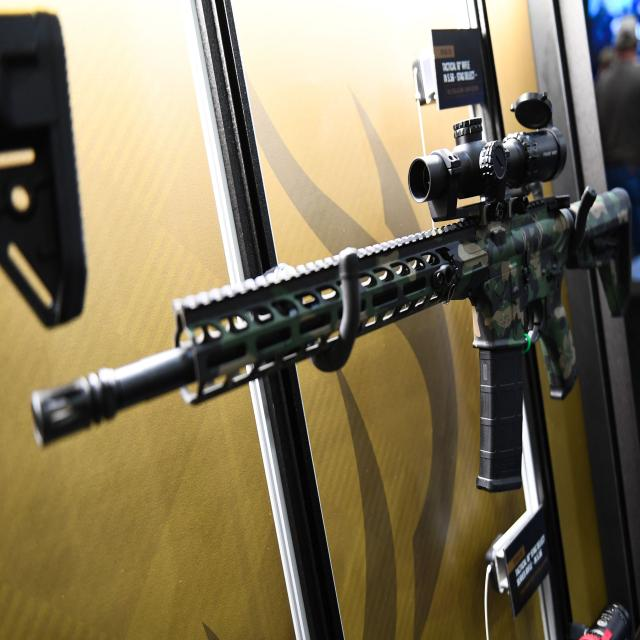Rifle: (30, 121, 632, 494)
